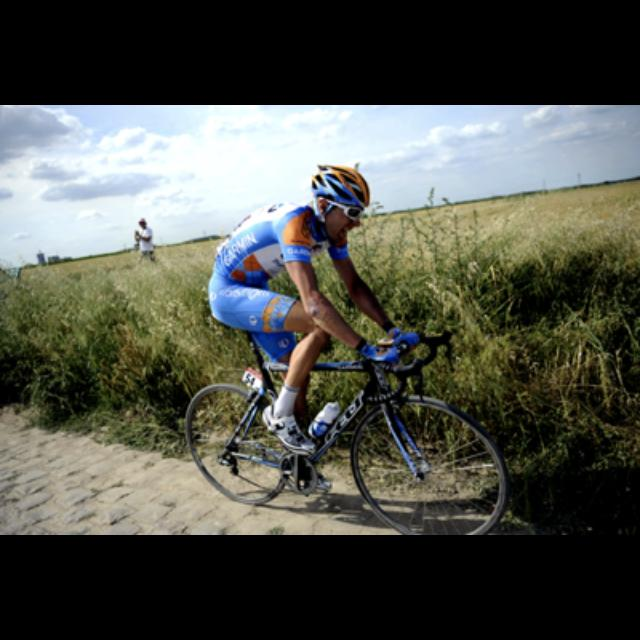With Helmet: (306, 160, 366, 246)
